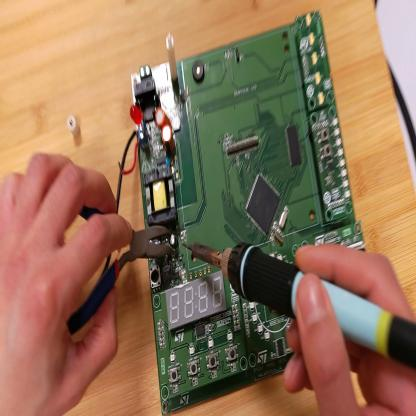hand: (2, 151, 130, 416), (285, 245, 416, 416)
low voltage board: (104, 5, 370, 416)
pliers: (64, 203, 175, 335)
welder probe tip: (183, 233, 410, 367)
working area: (2, 3, 416, 413)
